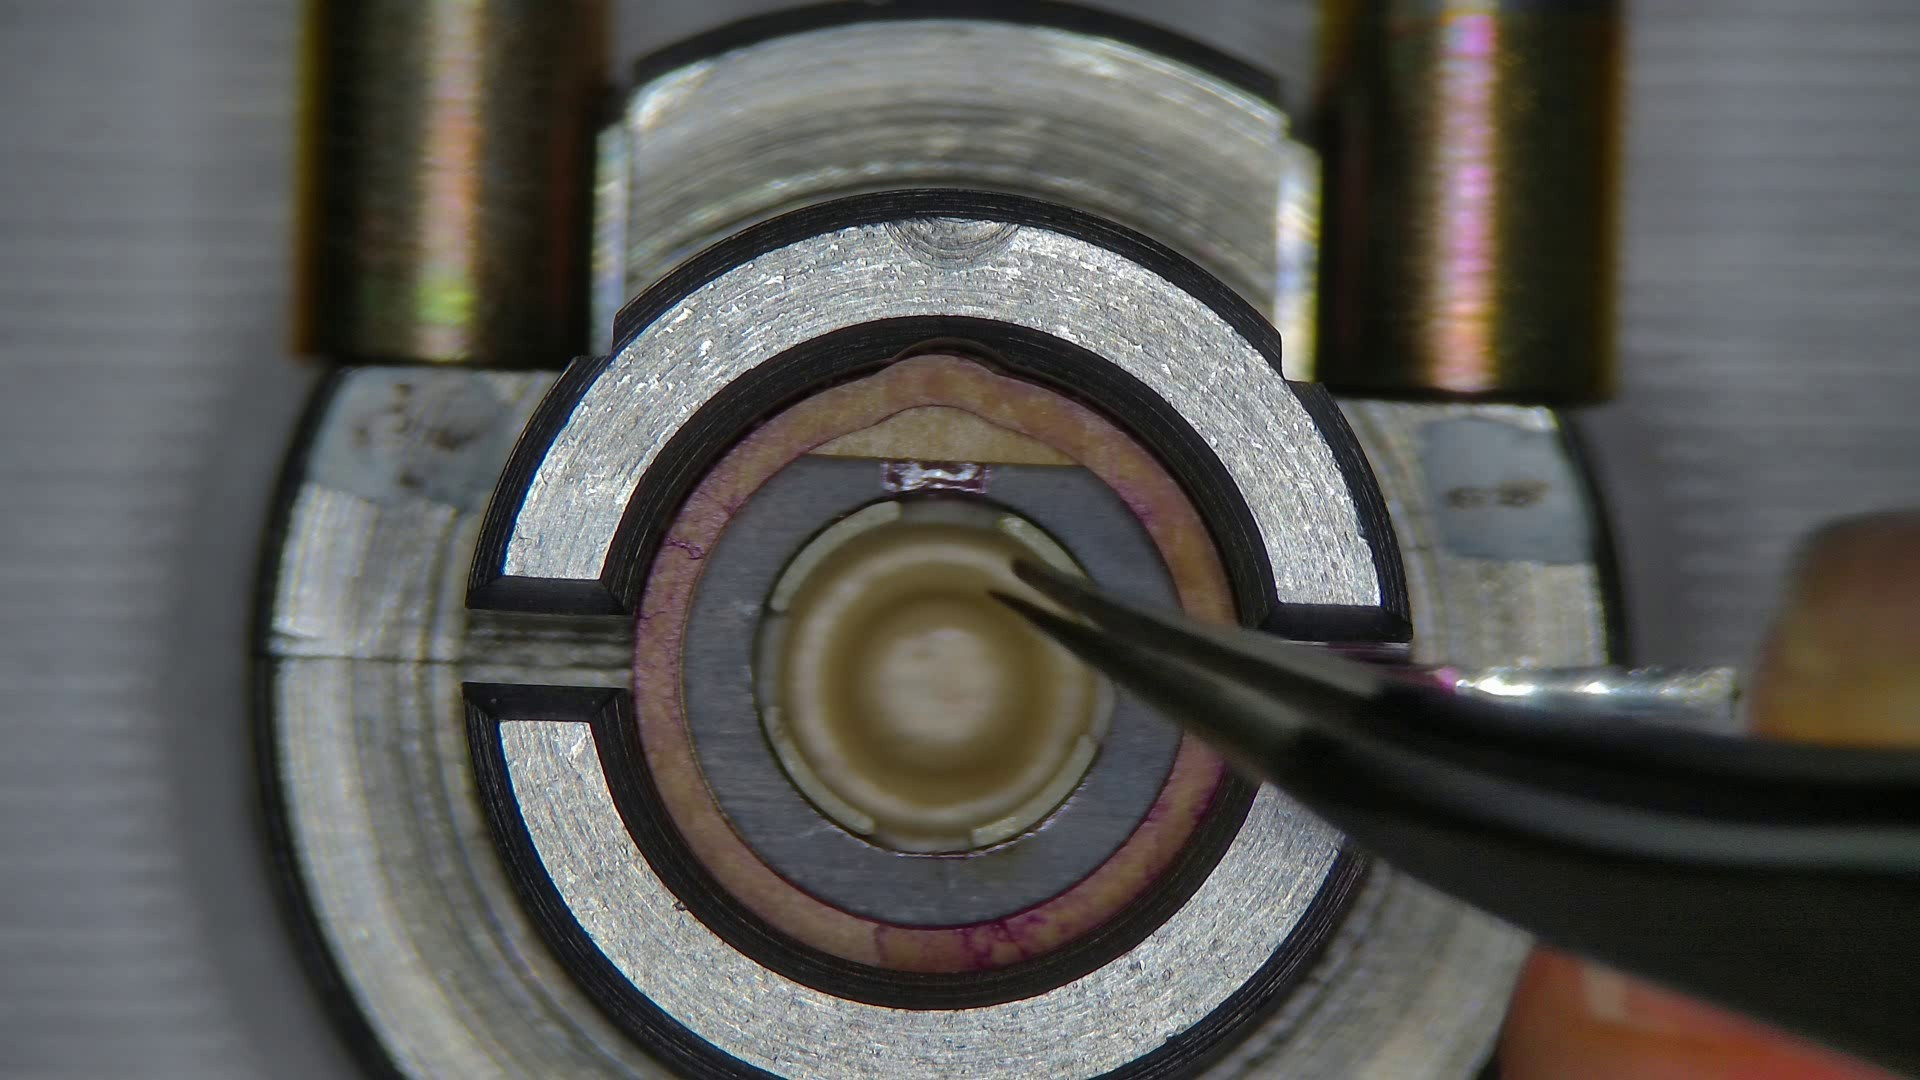GreyOring: (632, 353, 1232, 972)
YellowOring: (684, 460, 1175, 924)
redOring: (812, 405, 1071, 465)
